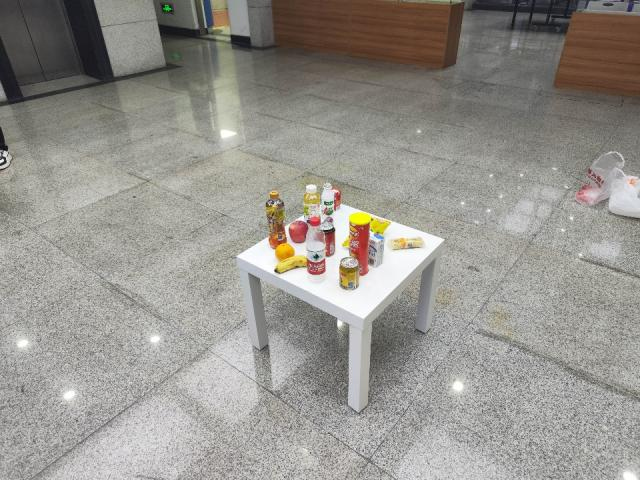Canned_drinks: (339, 256, 363, 296)
